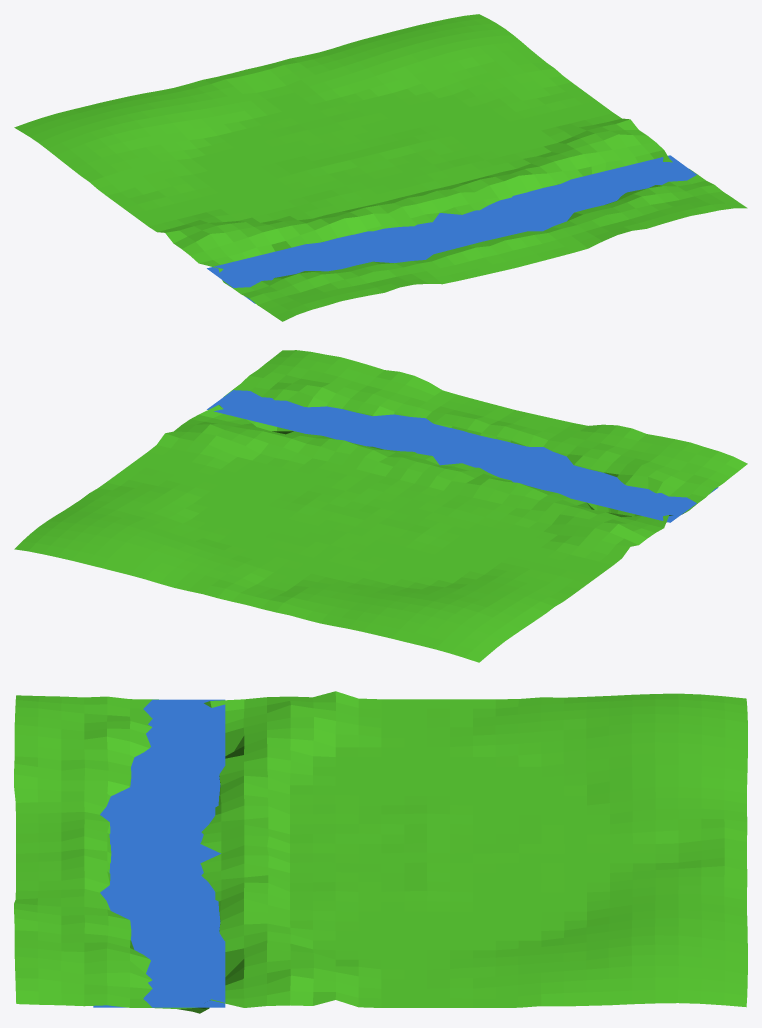
The model's file is ground.gltf.
The picture shows the model from 3 angles, top to bottom: view 1: azimuth 30°, elevation 25°; view 2: azimuth 150°, elevation 25°; view 3: azimuth 270°, elevation 25°; orthographic projection. The views are drawn at different scales.
Visible parts, largest first — view 1: Plane; view 2: Plane; view 3: Plane.
Boxes of the visible parts, x1=… form: Plane: x1=14, y1=14, x2=747, y2=321; Plane: x1=14, y1=350, x2=747, y2=662; Plane: x1=14, y1=691, x2=747, y2=1013.
Size of the model in its own units: 30.06 by 2.78 by 30.1.
